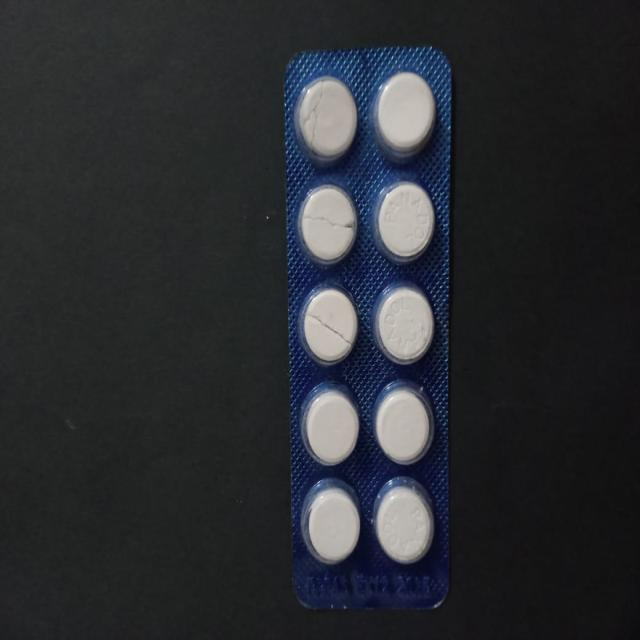defect: (295, 74, 363, 169), (296, 176, 362, 268), (299, 280, 362, 370)
